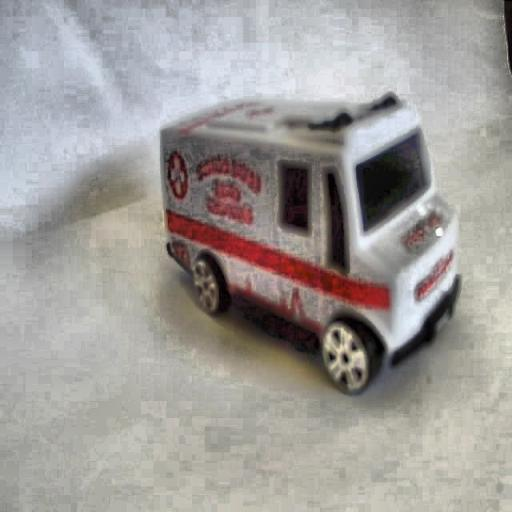ambulance: (159, 92, 460, 394)
